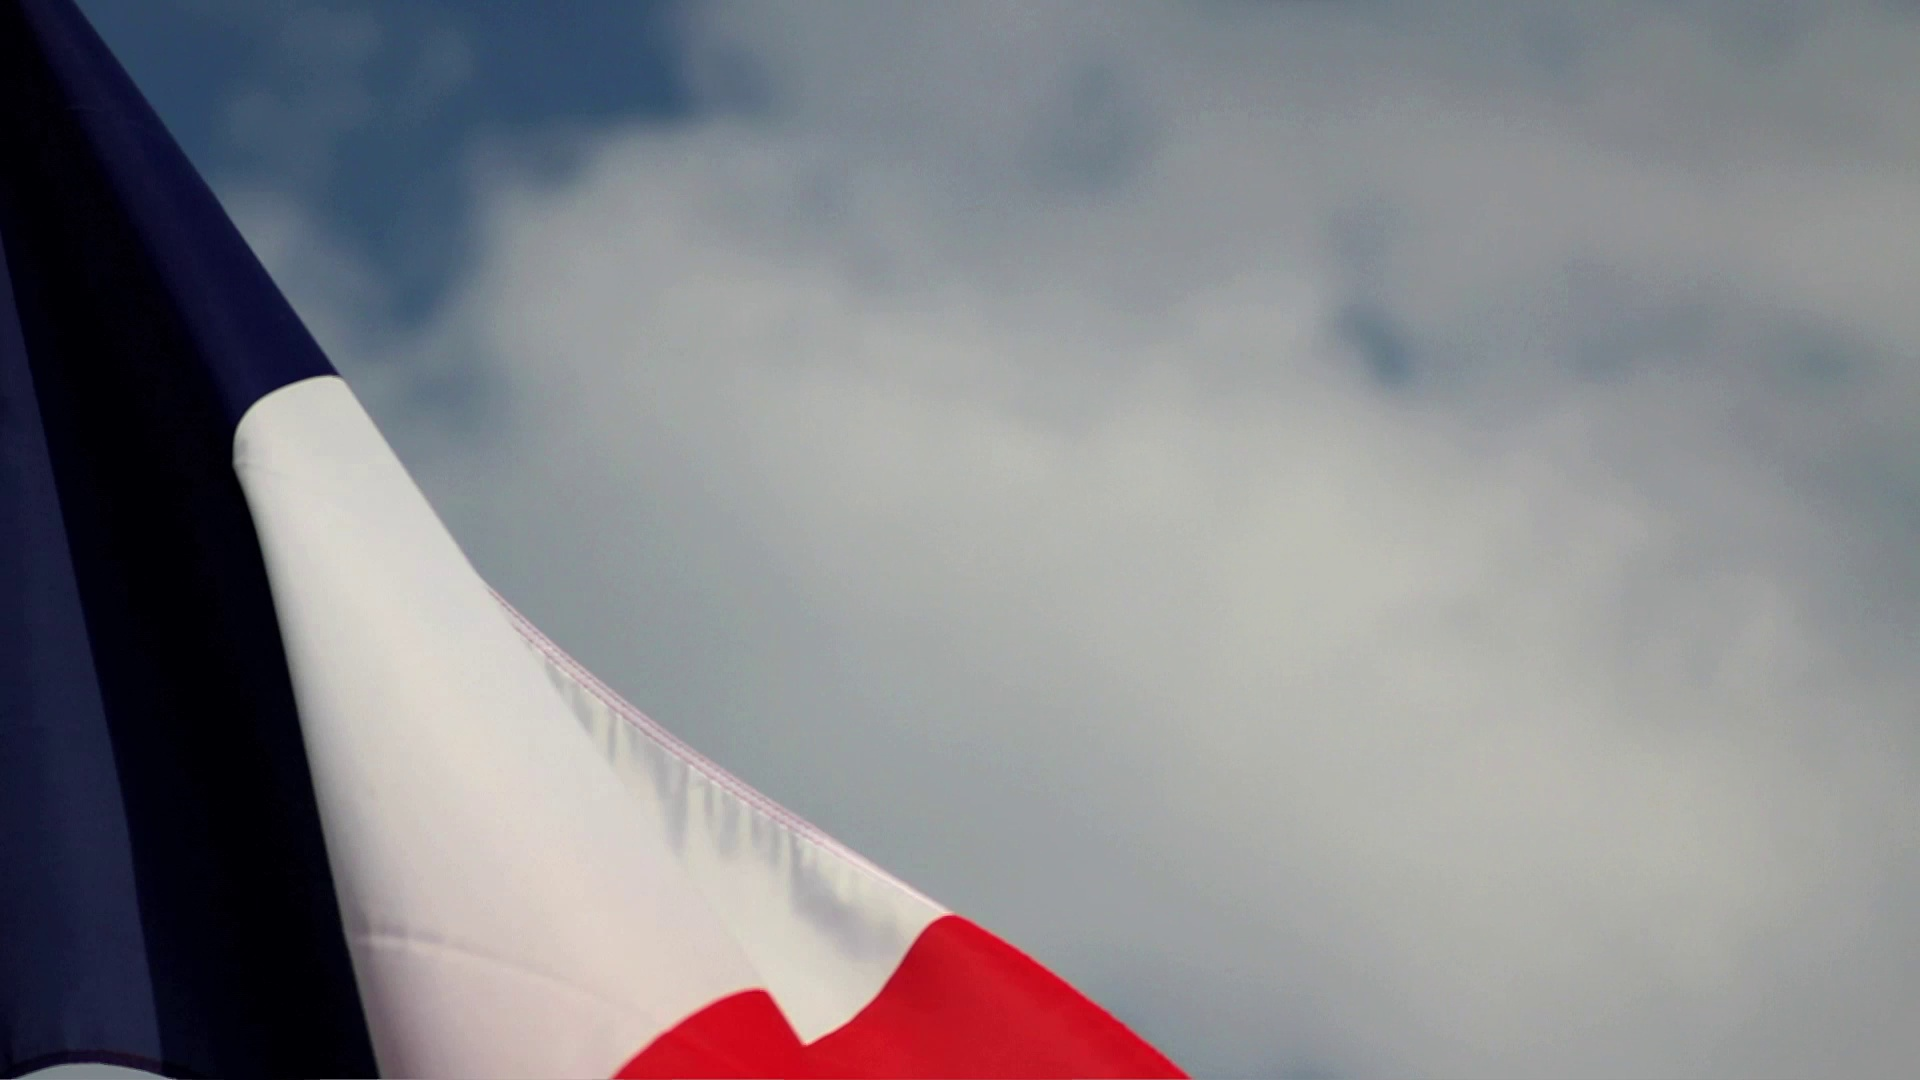French Flag: (1, 1, 1182, 1080)
